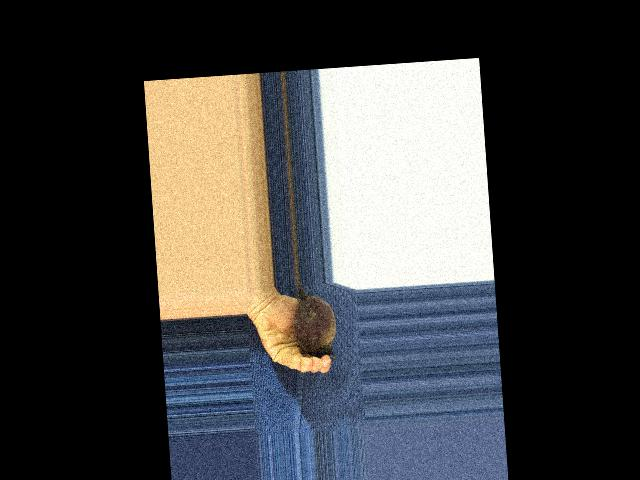beet: (289, 283, 337, 363)
